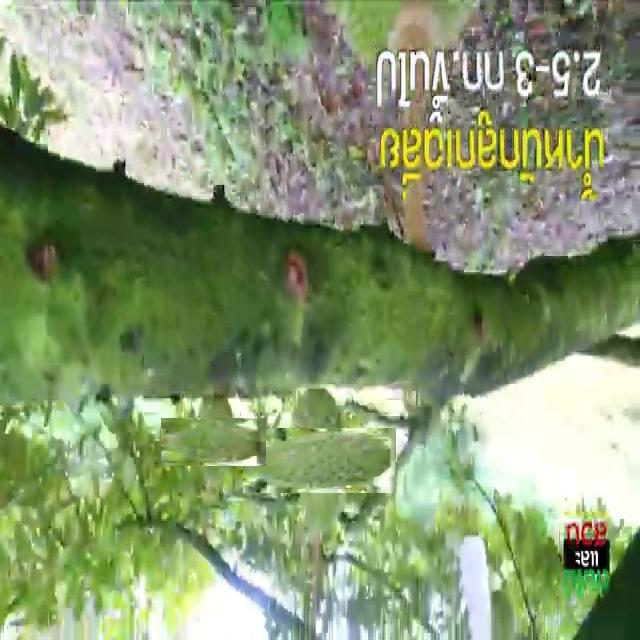durian: (265, 405, 374, 515), (176, 404, 252, 481)
